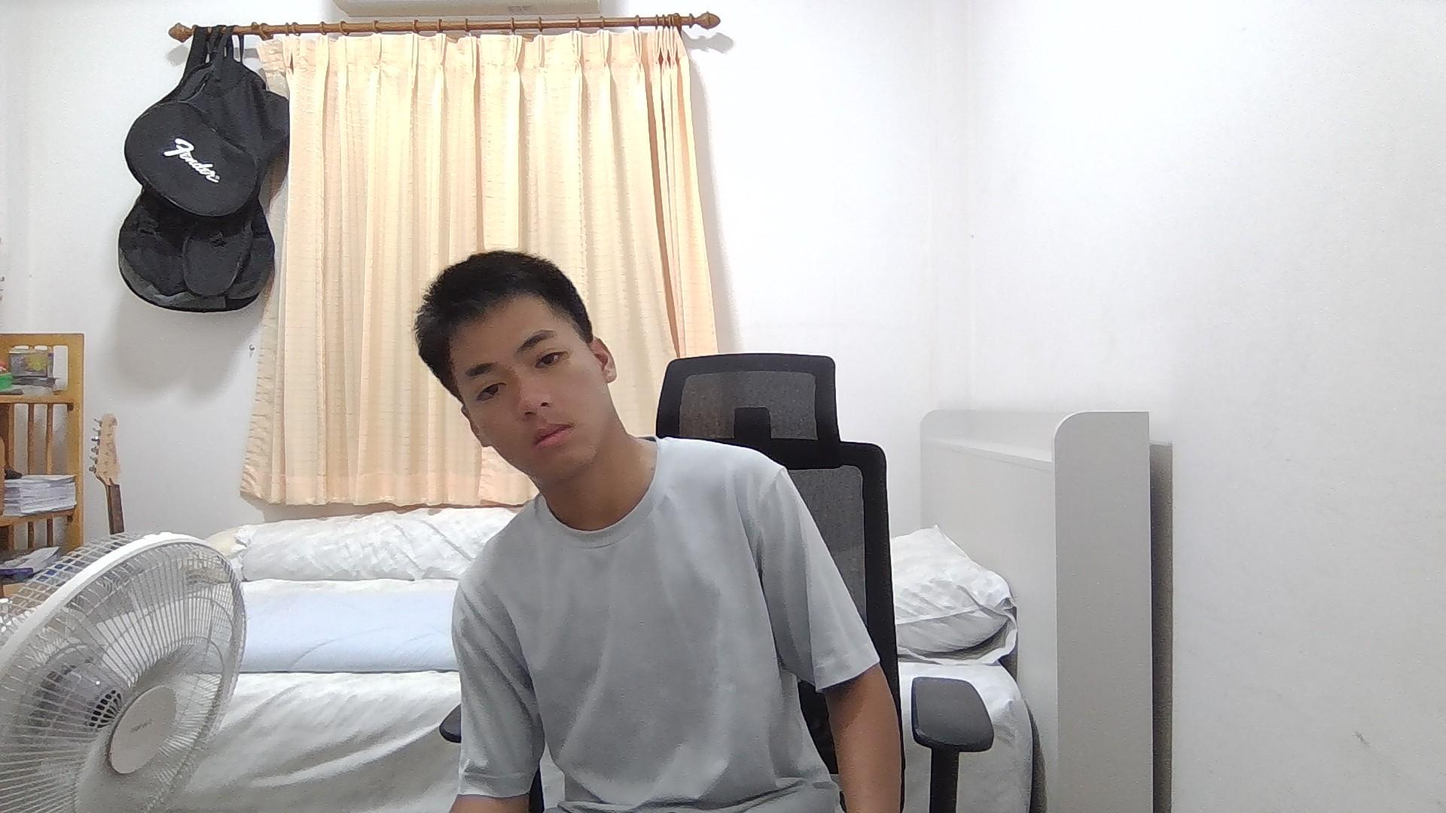BadPosture: (416, 251, 901, 812)
